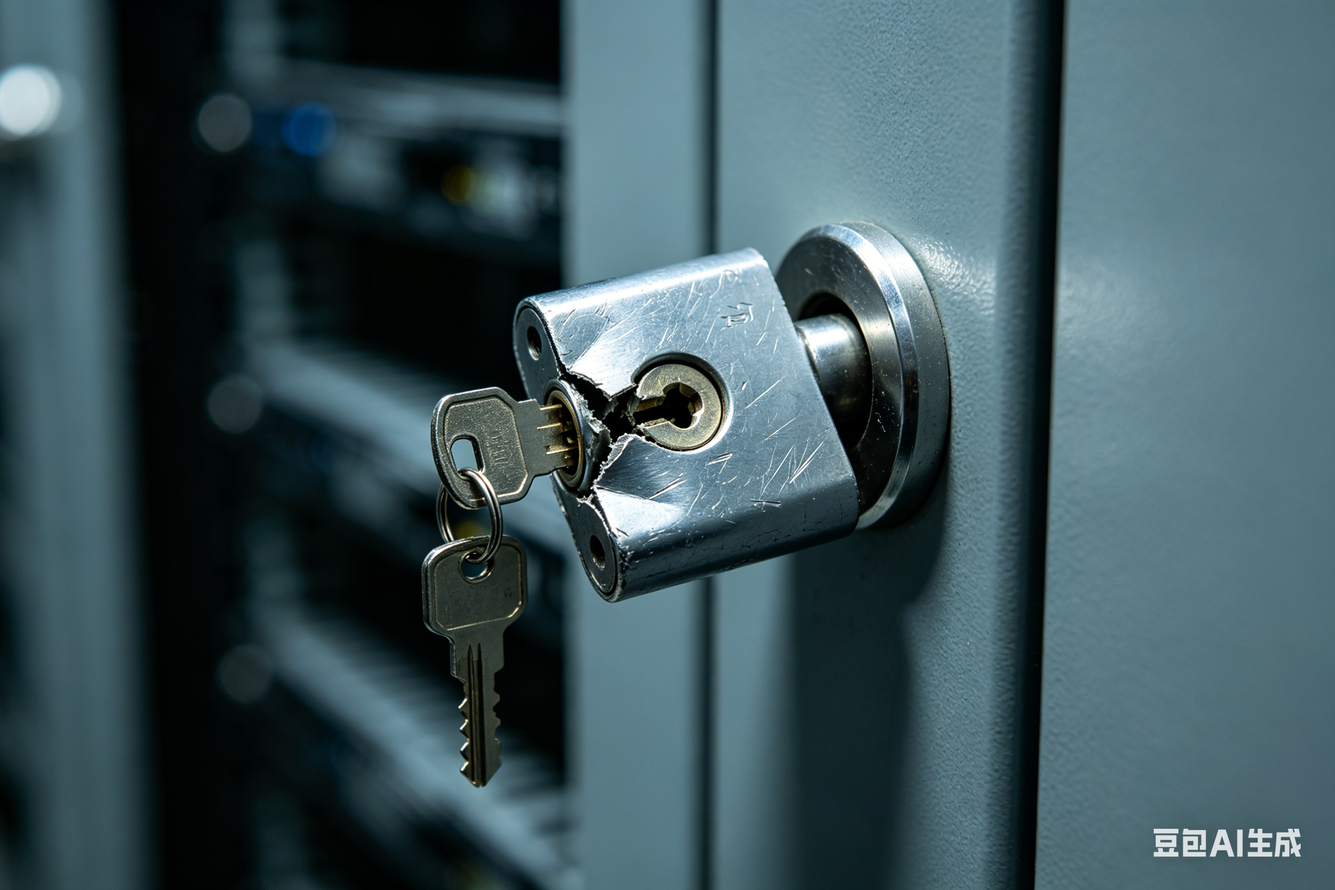BadLock: (503, 314, 685, 579)
